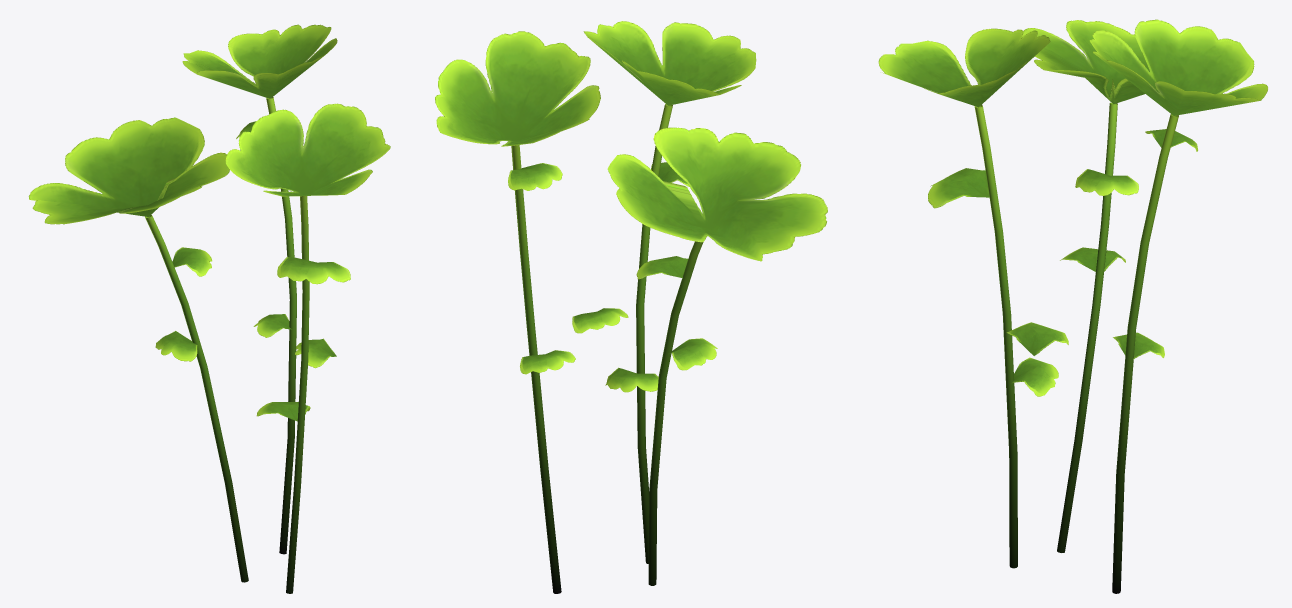
Rendered from Clover_1.glb.
3 views of the same model, side by side, from view 1: azimuth 30°, elevation 25°; view 2: azimuth 150°, elevation 25°; view 3: azimuth 270°, elevation 25° (orthographic). The views are drawn at different scales.
Parts seen in each view (by area): view 1: Clover_1; view 2: Clover_1; view 3: Clover_1.
Boxes of the visible parts, <box> form: Clover_1: <box>28,24,390,593</box>; Clover_1: <box>435,21,827,593</box>; Clover_1: <box>878,19,1267,593</box>.
Size of the model in its own units: 0.7963 by 1.14 by 0.7639.
Materials: 1 (1 with a texture image).
